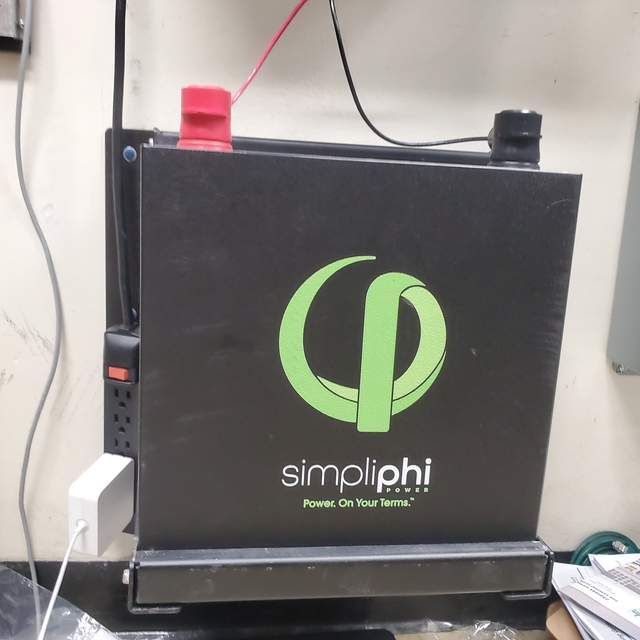battery: (137, 87, 553, 602)
